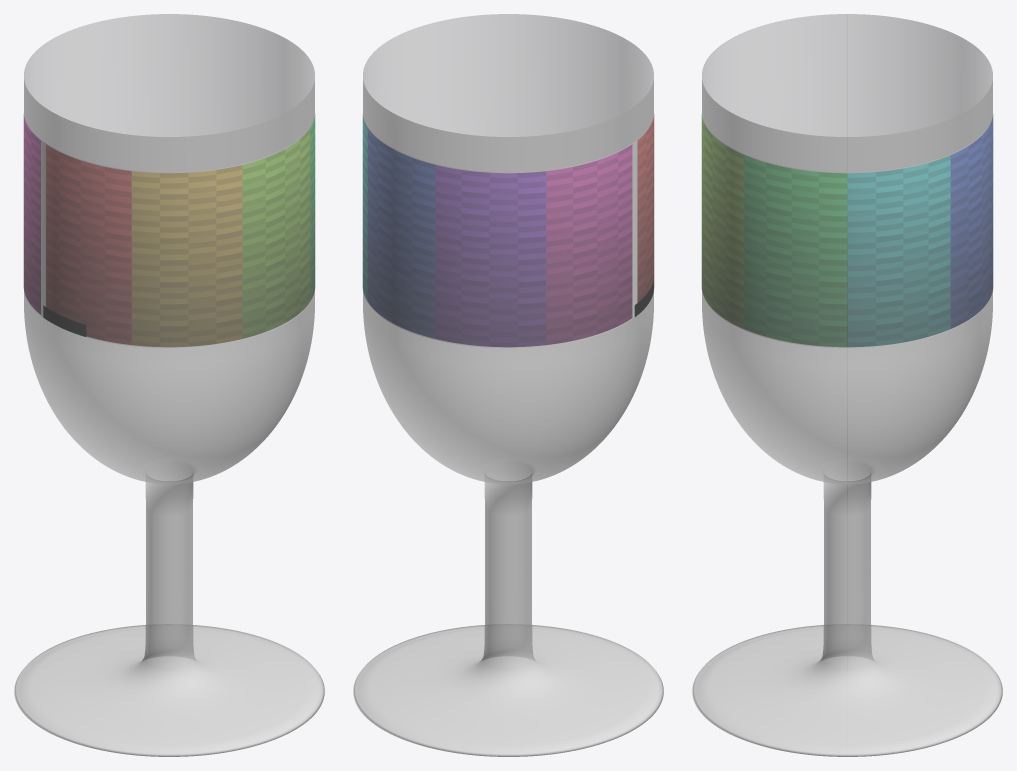
The model's file is VerreAVin.glb.
3 renders of one model, left to right at view 1: azimuth 30°, elevation 25°; view 2: azimuth 150°, elevation 25°; view 3: azimuth 270°, elevation 25°, orthographic.
Parts seen in each view (by area): view 1: Cylinder; view 2: Cylinder; view 3: Cylinder.
Part boxes in pixels (x1=…): Cylinder: x1=14, y1=14, x2=324, y2=756; Cylinder: x1=353, y1=14, x2=663, y2=756; Cylinder: x1=692, y1=14, x2=1002, y2=756.
Size of the model in its own units: 0.064 by 0.14 by 0.064.
2 materials, 1 textured.
